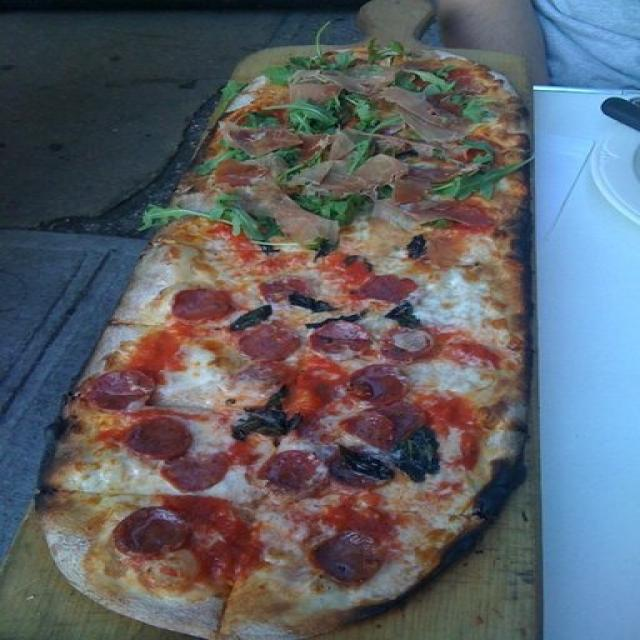Basil: (233, 387, 300, 440), (395, 426, 440, 482), (336, 441, 395, 482), (304, 305, 371, 329), (230, 306, 272, 331), (385, 301, 422, 326), (292, 292, 335, 312), (408, 235, 427, 259)
Ham: (362, 167, 494, 238), (282, 134, 408, 196), (235, 176, 338, 246), (214, 129, 331, 181), (380, 86, 472, 142), (344, 128, 479, 160), (290, 71, 405, 104), (226, 122, 303, 158)
Pepperoni: (115, 506, 190, 554), (315, 531, 382, 582), (251, 453, 329, 494), (80, 370, 155, 410), (328, 449, 401, 488), (128, 416, 192, 460), (162, 452, 230, 491), (347, 365, 414, 403), (371, 394, 427, 437), (240, 324, 300, 361), (342, 410, 395, 450), (312, 321, 370, 355), (172, 290, 235, 321), (357, 275, 417, 302), (264, 280, 310, 298)
Pizza: (42, 44, 528, 640)
Rucola: (267, 40, 413, 87), (436, 158, 532, 200), (221, 113, 300, 162), (261, 98, 349, 135), (217, 188, 269, 246), (140, 202, 237, 233), (294, 192, 368, 224), (399, 68, 457, 98), (451, 92, 494, 129), (211, 80, 246, 121), (196, 145, 239, 175), (283, 150, 323, 181), (391, 72, 430, 100), (348, 140, 375, 177), (349, 96, 379, 129), (371, 113, 406, 140), (463, 139, 496, 164), (318, 22, 332, 56), (377, 185, 394, 197), (431, 146, 445, 157)
